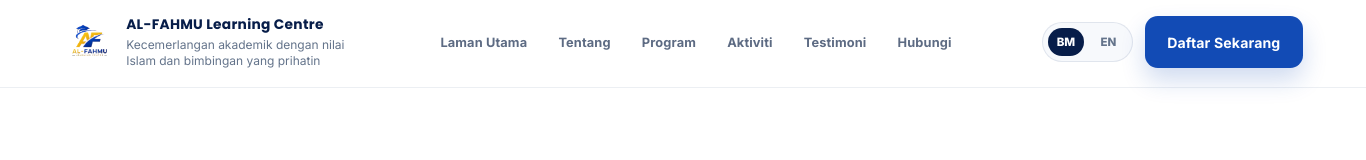
Test: switches language from Malay to English
The image size is (1366, 160).
What coordinates should you click on to do the following:
click the button "EN"
I would click on:
 (1108, 42)
Its box is [1090,28,1127,56].
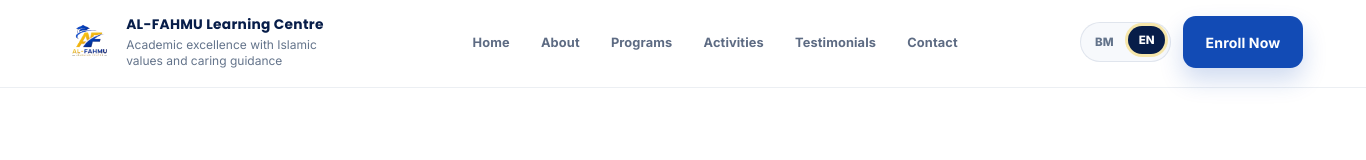
Result: the link "Enroll Now" in the row of "AL-FAHMU Learning Centre" is shown at [1183,16,1303,68]
